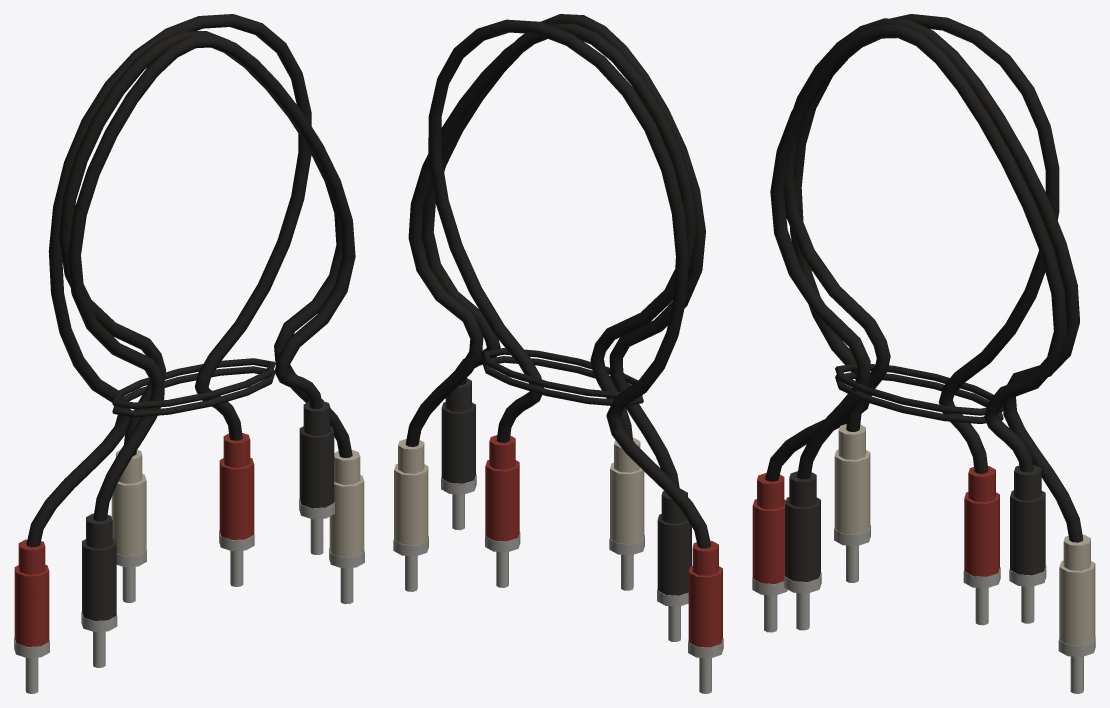
Rendered from cable-coil-small-85cea5bb81f1.glb.
The picture shows the model from 3 angles, left to right: view 1: azimuth 30°, elevation 25°; view 2: azimuth 150°, elevation 25°; view 3: azimuth 330°, elevation 25°; orthographic projection. The views are drawn at different scales.
Parts seen in each view (by area): view 1: rubber, enamel-red, plastic-dark, plastic-light, brushed; view 2: rubber, enamel-red, plastic-light, plastic-dark, brushed; view 3: rubber, plastic-light, plastic-dark, enamel-red, brushed.
Boxes of the visible parts, x1=… form: rubber: x1=26, y1=14, x2=355, y2=547; enamel-red: x1=14, y1=433, x2=254, y2=646; plastic-dark: x1=82, y1=401, x2=334, y2=620; plastic-light: x1=111, y1=449, x2=364, y2=557; brushed: x1=14, y1=499, x2=364, y2=693; rubber: x1=405, y1=14, x2=710, y2=548; enamel-red: x1=485, y1=435, x2=722, y2=647; plastic-light: x1=394, y1=437, x2=644, y2=545; plastic-dark: x1=441, y1=378, x2=691, y2=595; brushed: x1=393, y1=474, x2=723, y2=693; rubber: x1=765, y1=14, x2=1083, y2=542; plastic-light: x1=834, y1=424, x2=1095, y2=645; plastic-dark: x1=785, y1=465, x2=1045, y2=581; enamel-red: x1=752, y1=466, x2=999, y2=583; brushed: x1=752, y1=525, x2=1095, y2=693.
Size of the model in its own units: 0.1304 by 0.2337 by 0.0244.
